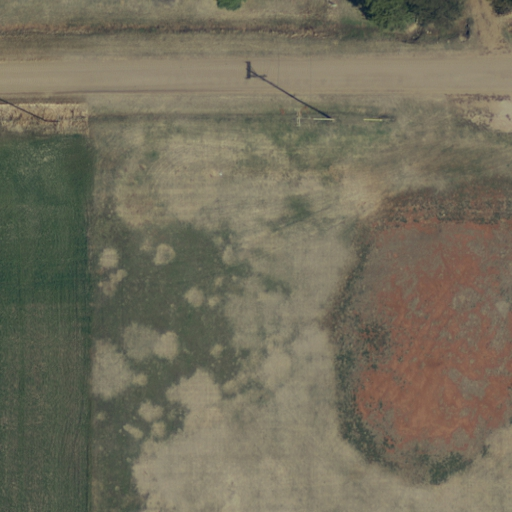DT: (290, 105, 337, 132), (38, 108, 68, 135)
